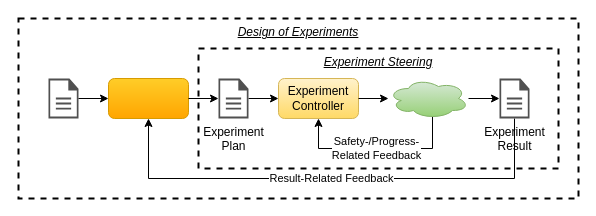
Image size: 596x216. Some labels were removed from this diagram. The centre of each missing label's shape, as x and y in pixels:
3D Metal Printing: (x=428, y=98)
Experiment Design Plan: (x=63, y=98)
Experiment Planner: (x=148, y=98)
